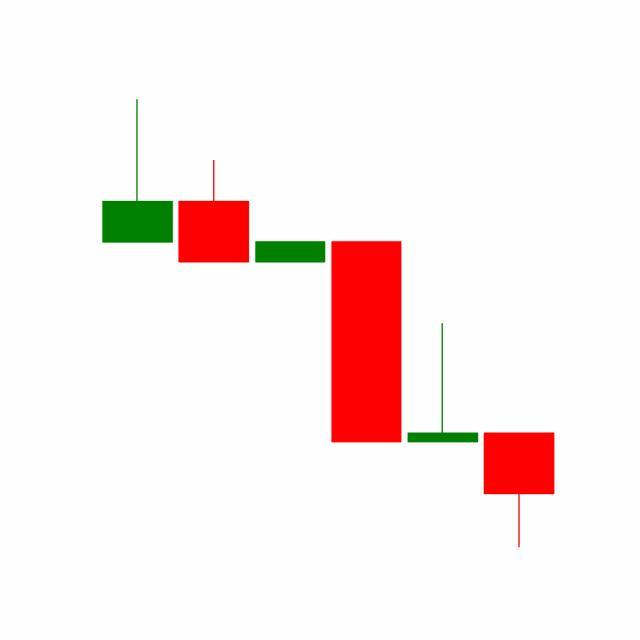Gravestone Doji: (404, 322, 482, 444)
